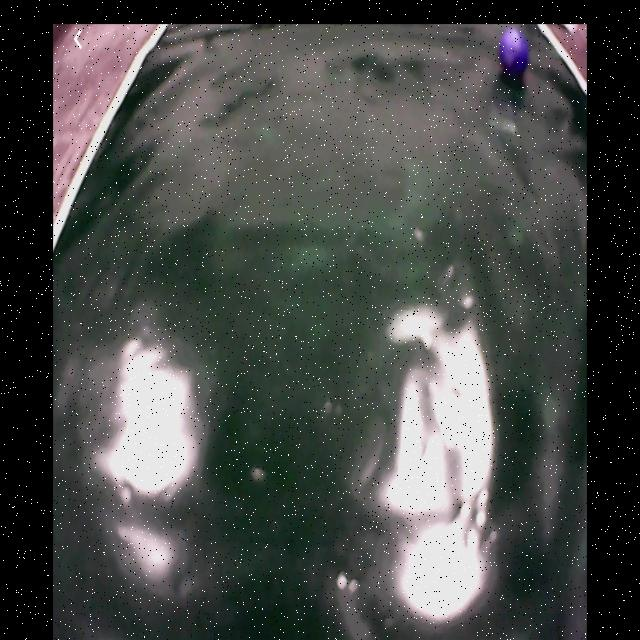ball: (497, 28, 530, 78)
